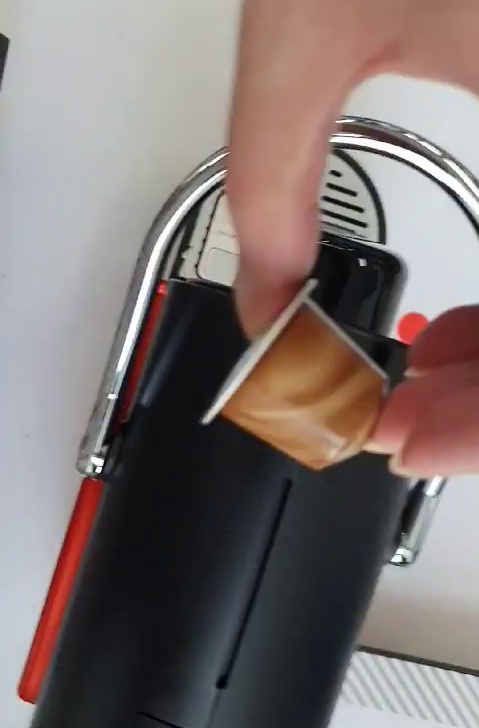capsule_12: (197, 277, 389, 470)
